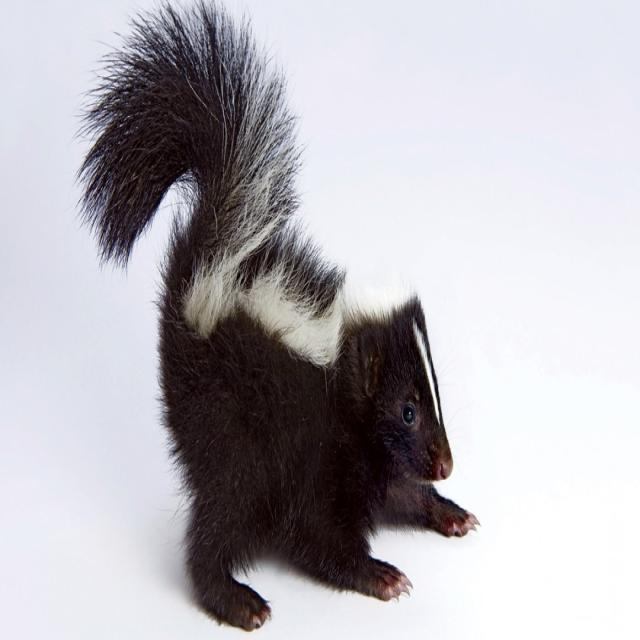Skunk: (59, 0, 474, 635)
